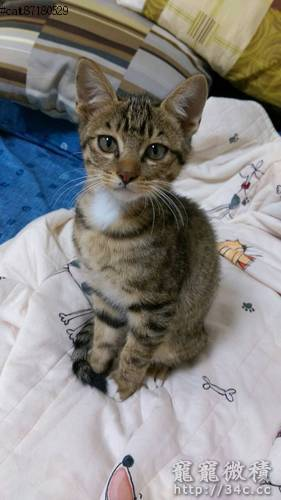cat: (56, 48, 232, 411)
